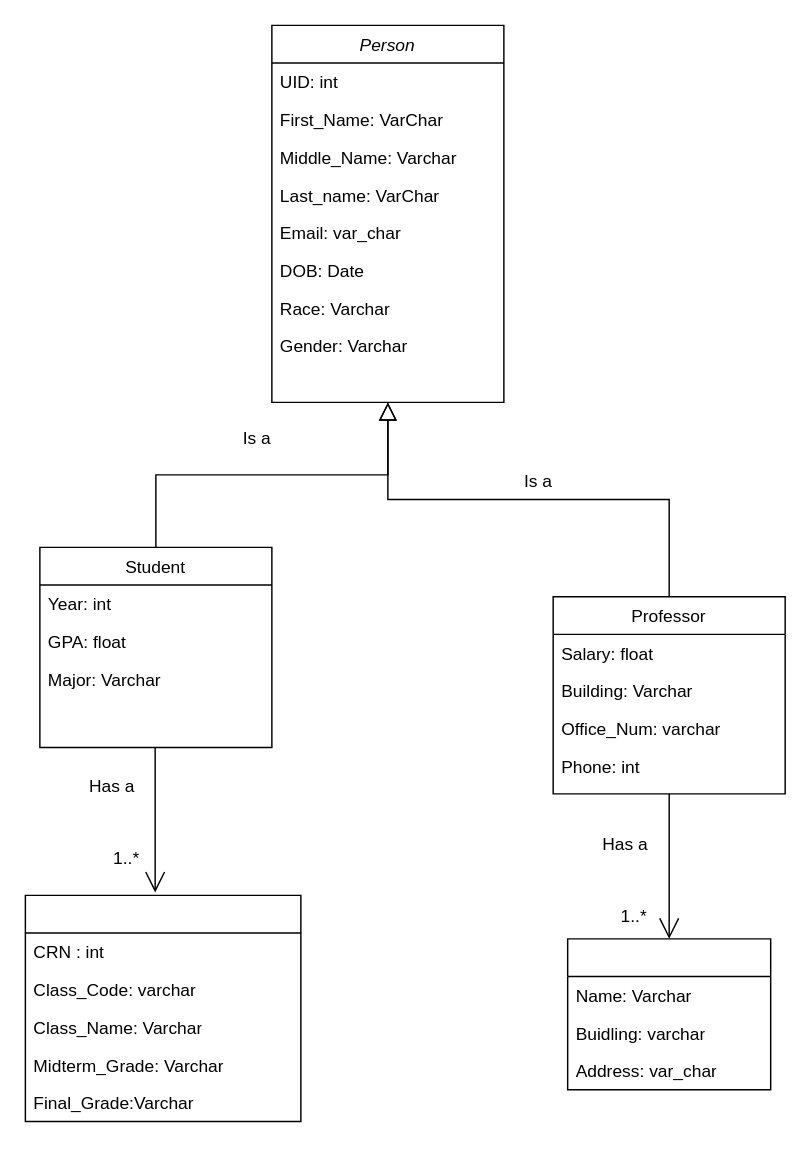
The diagram is 811 pixels wide and 1151 high, and some of its shapes have lost their labels. Each missing label, with the box of its shape:
Department: (566, 937, 771, 1090)
Grades/Clasess: (24, 894, 301, 1122)
